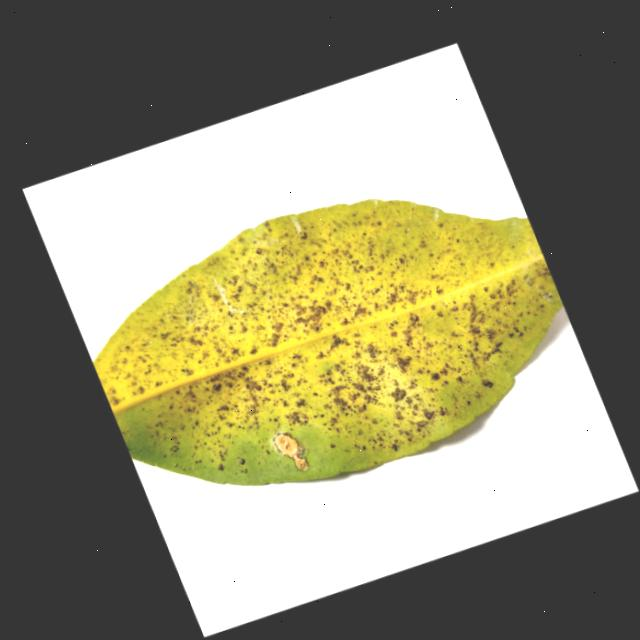melanose: (93, 198, 560, 483)
